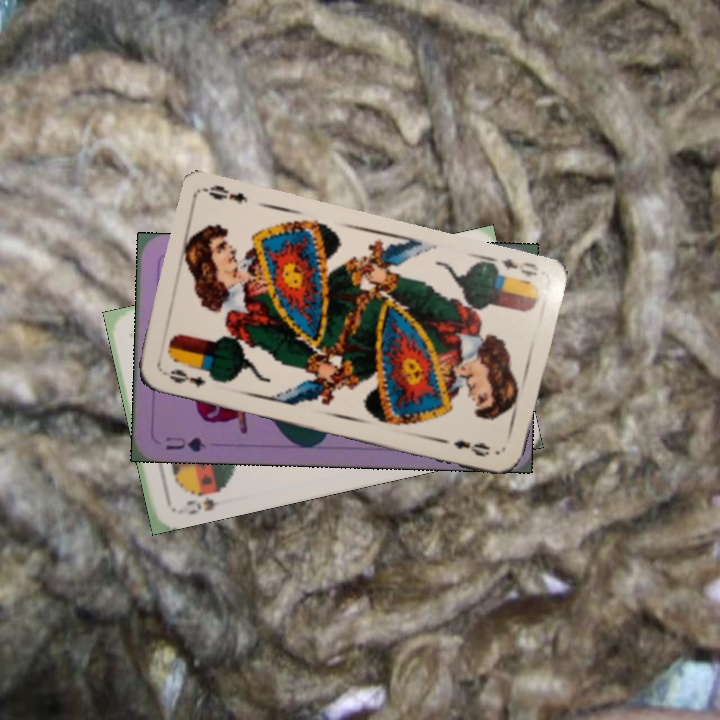EO: (485, 253, 541, 286), (159, 365, 209, 390)
GU: (161, 432, 208, 455)
SO: (183, 482, 231, 518)
